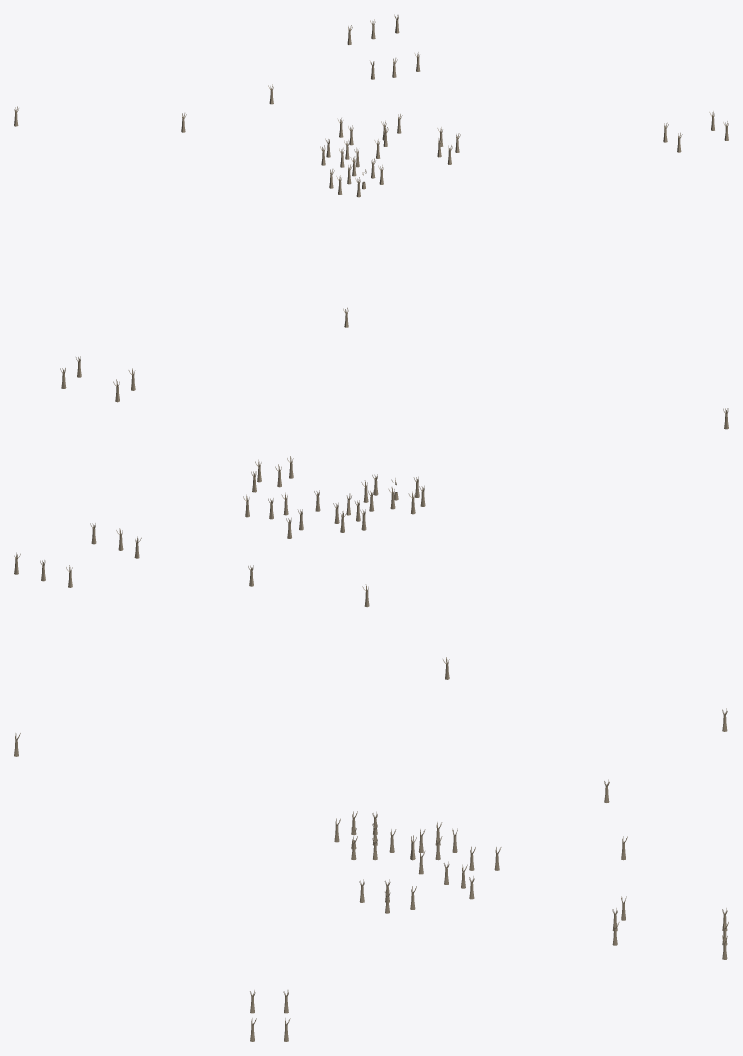
File: object_44_lev2.glb
3 views of the same model, one above another, from view 1: azimuth 30°, elevation 25°; view 2: azimuth 150°, elevation 25°; view 3: azimuth 270°, elevation 25° (orthographic). The views are drawn at different scales.
Visible parts, largest first — view 1: object_44_lev2; view 2: object_44_lev2; view 3: object_44_lev2.
Part boxes in pixels (bbox=[...]): object_44_lev2: bbox=[14, 14, 728, 327]; object_44_lev2: bbox=[14, 356, 728, 679]; object_44_lev2: bbox=[14, 708, 728, 1041].
Bounding box in the file's own units: 60.59 × 2.04 × 58.62.
